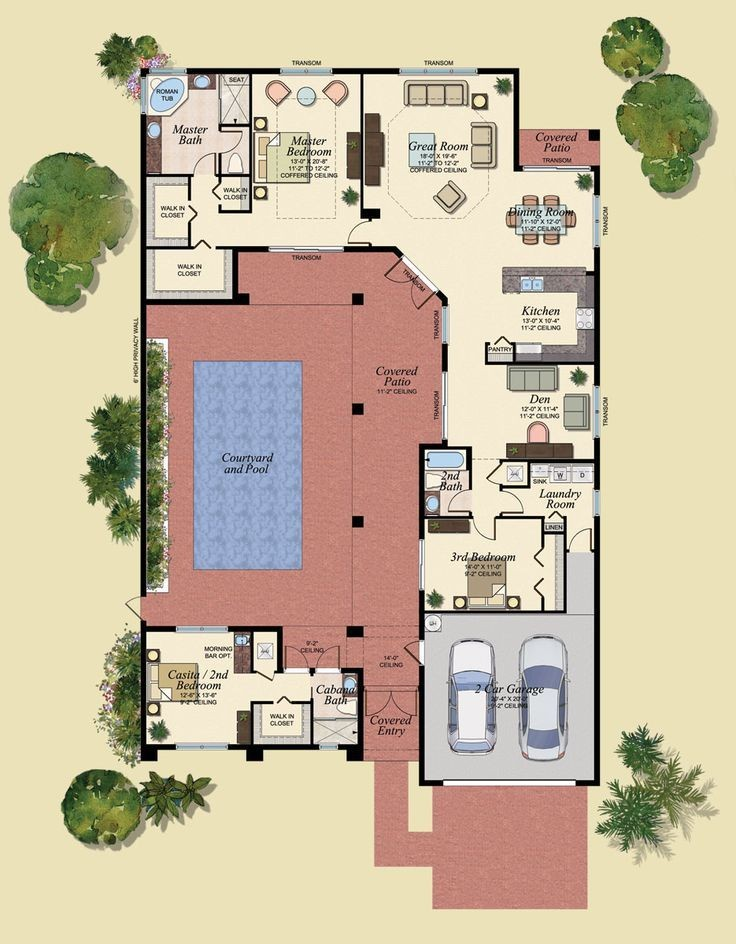room: (249, 69, 361, 253), (139, 68, 251, 252), (141, 630, 253, 754), (418, 516, 544, 613)
